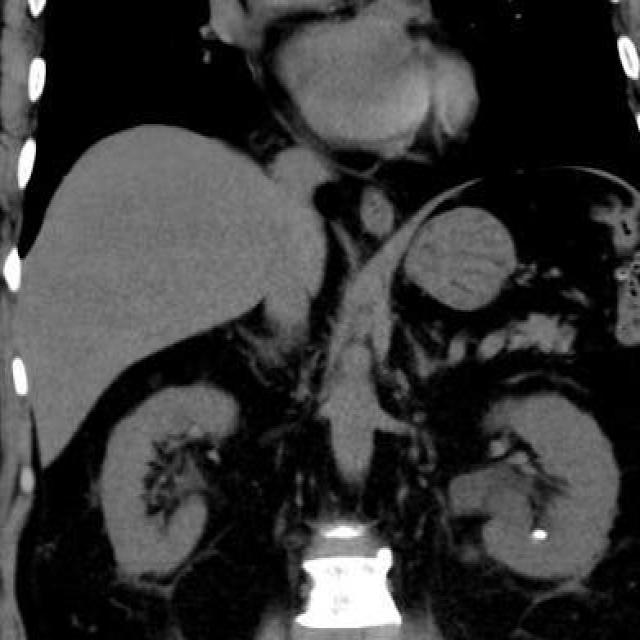Tas_Var: (531, 527, 549, 545)
